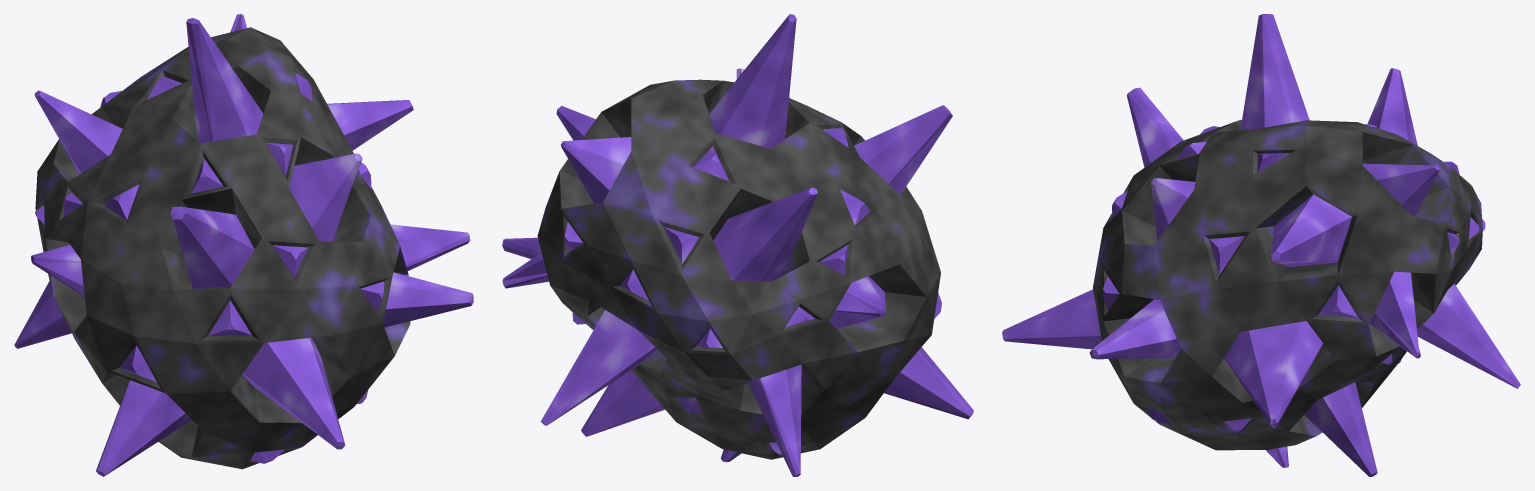
The model's file is Cristalite_Ore.fbx.
3 views of the same model, side by side, from view 1: azimuth 30°, elevation 25°; view 2: azimuth 150°, elevation 25°; view 3: azimuth 270°, elevation 25° (orthographic). The views are drawn at different scales.
Visible parts, largest first — view 1: SM_Cristalite_Ore; view 2: SM_Cristalite_Ore; view 3: SM_Cristalite_Ore.
Boxes of the visible parts, bbox=[...] form: SM_Cristalite_Ore: bbox=[14, 14, 473, 476]; SM_Cristalite_Ore: bbox=[502, 14, 973, 476]; SM_Cristalite_Ore: bbox=[1002, 14, 1520, 476].
Size of the model in its own units: 58.63 by 59.72 by 65.58.
Materials: 2 (2 with a texture image).
